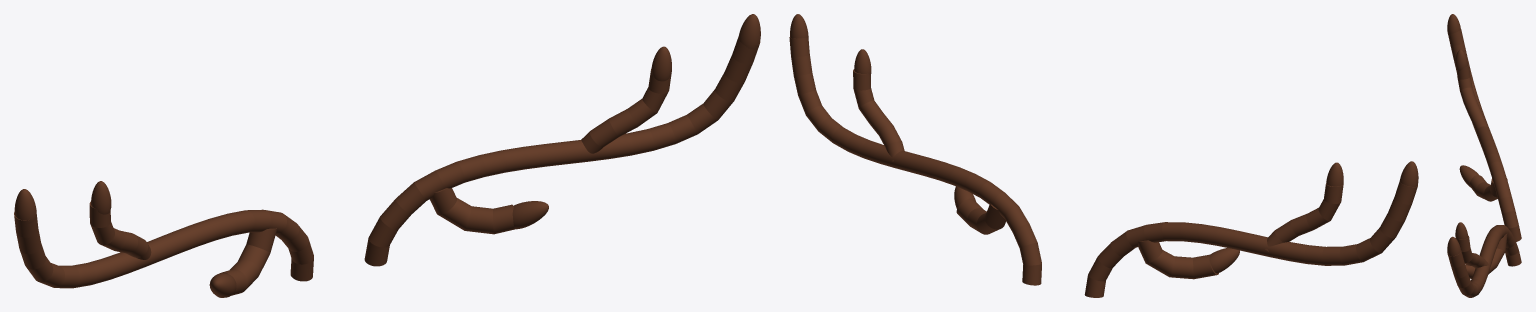
Rendered from reindeer-antlers.glb.
3 renders of one model, left to right at view 1: azimuth 30°, elevation 25°; view 2: azimuth 150°, elevation 25°; view 3: azimuth 270°, elevation 25°, orthographic. The views are drawn at different scales.
Parts seen in each view (by area): view 1: antler main left, antler main right, antler top left, antler bottom left, antler bottom right, antler top right, antler bottom left top, antler main left top, antler main right top, antler top left top, antler bottom right top, antler top right top; view 2: antler main right, antler main left, antler bottom right, antler top right, antler top left, antler bottom left, antler bottom right top; view 3: antler main right, antler main left, antler top right, antler bottom right, antler top left, antler bottom left, antler bottom right top, antler main right top, antler main left top, antler top right top, antler top left top, antler bottom left top.
Boxes of the visible parts, x1=… form: antler main left: x1=364, y1=37, x2=760, y2=266; antler main right: x1=14, y1=209, x2=313, y2=288; antler top left: x1=581, y1=69, x2=671, y2=153; antler bottom left: x1=430, y1=188, x2=514, y2=234; antler bottom right: x1=217, y1=228, x2=277, y2=297; antler top right: x1=89, y1=201, x2=151, y2=259; antler bottom left top: x1=512, y1=201, x2=548, y2=229; antler main left top: x1=738, y1=14, x2=760, y2=49; antler main right top: x1=14, y1=189, x2=36, y2=223; antler top left top: x1=651, y1=46, x2=671, y2=81; antler bottom right top: x1=209, y1=273, x2=236, y2=297; antler top right top: x1=91, y1=181, x2=111, y2=214; antler main right: x1=1084, y1=181, x2=1417, y2=297; antler main left: x1=789, y1=37, x2=1041, y2=285; antler bottom right: x1=1137, y1=240, x2=1218, y2=279; antler top right: x1=1265, y1=183, x2=1343, y2=251; antler top left: x1=853, y1=69, x2=904, y2=161; antler bottom left: x1=956, y1=198, x2=1005, y2=234; antler bottom right top: x1=1210, y1=248, x2=1239, y2=273; antler main right: x1=1448, y1=29, x2=1521, y2=241; antler main left: x1=1448, y1=225, x2=1521, y2=297; antler top right: x1=1456, y1=63, x2=1488, y2=130; antler bottom right: x1=1470, y1=175, x2=1507, y2=201; antler top left: x1=1458, y1=235, x2=1490, y2=268; antler bottom left: x1=1488, y1=233, x2=1507, y2=274; antler bottom right top: x1=1459, y1=165, x2=1478, y2=187; antler main right top: x1=1447, y1=14, x2=1460, y2=34; antler main left top: x1=1447, y1=236, x2=1460, y2=256; antler top right top: x1=1455, y1=49, x2=1467, y2=70; antler top left top: x1=1455, y1=222, x2=1467, y2=240; antler bottom left top: x1=1465, y1=264, x2=1475, y2=278.
Size of the model in its own units: 14.67 by 3.9 by 2.05.
